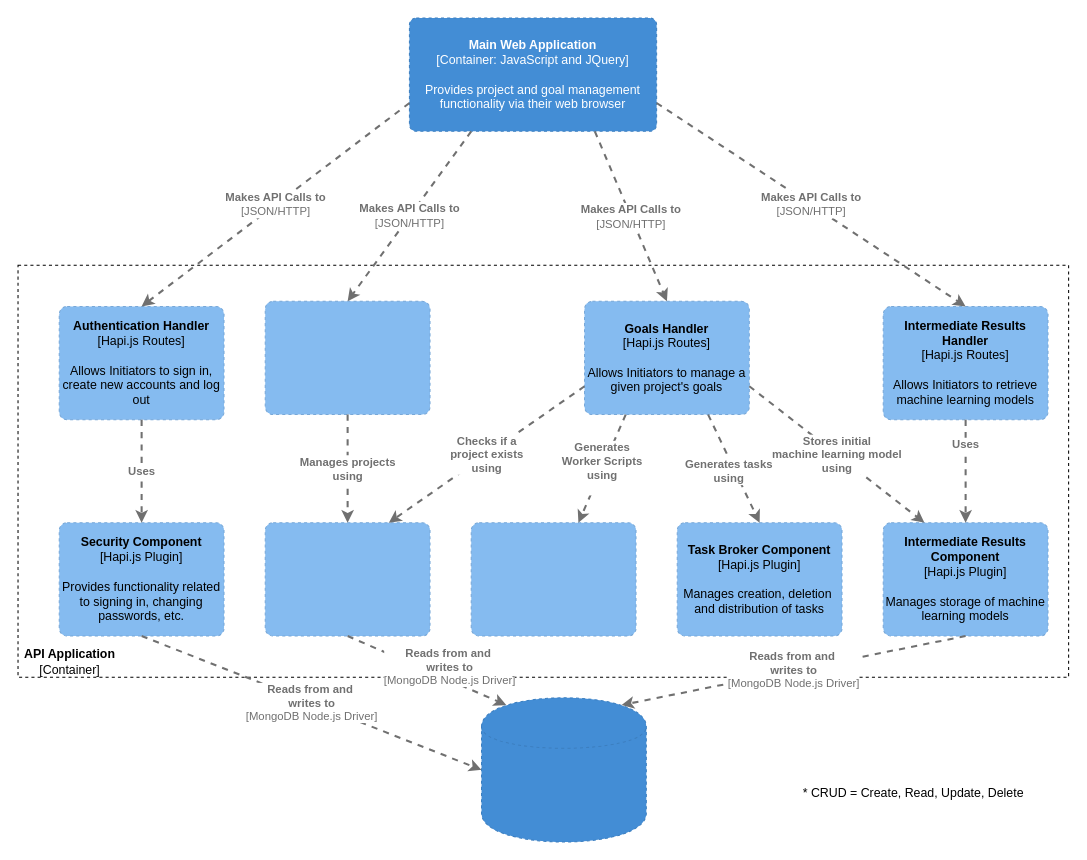
The diagram is 1087 pixels wide and 860 high, and some of its shapes have lost their labels. Here are the shapes that lost their labels. From the top down, the centre of each, then its label:
At [347,357]: "Projects Handler [Hapi.js Routes] Allows Initiators to manage projects".
At [347,579]: "Projects Component [Hapi.js Plugin] Provides CRUD* functionality for projects".
At [553,579]: "Worker Script Component [Hapi.js Plugin] Creates Worker Scripts".
At [563,769]: "Database [Mongo DB] Stores user credentials and project information".
